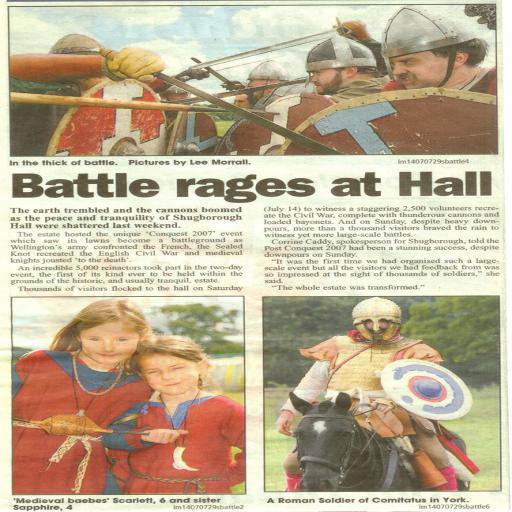Horse: (290, 390, 471, 490)
